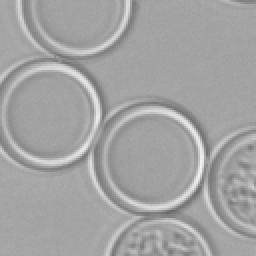picoshell: (88, 102, 204, 212), (0, 60, 100, 166), (16, 0, 130, 56), (202, 128, 254, 236), (104, 218, 210, 254)
